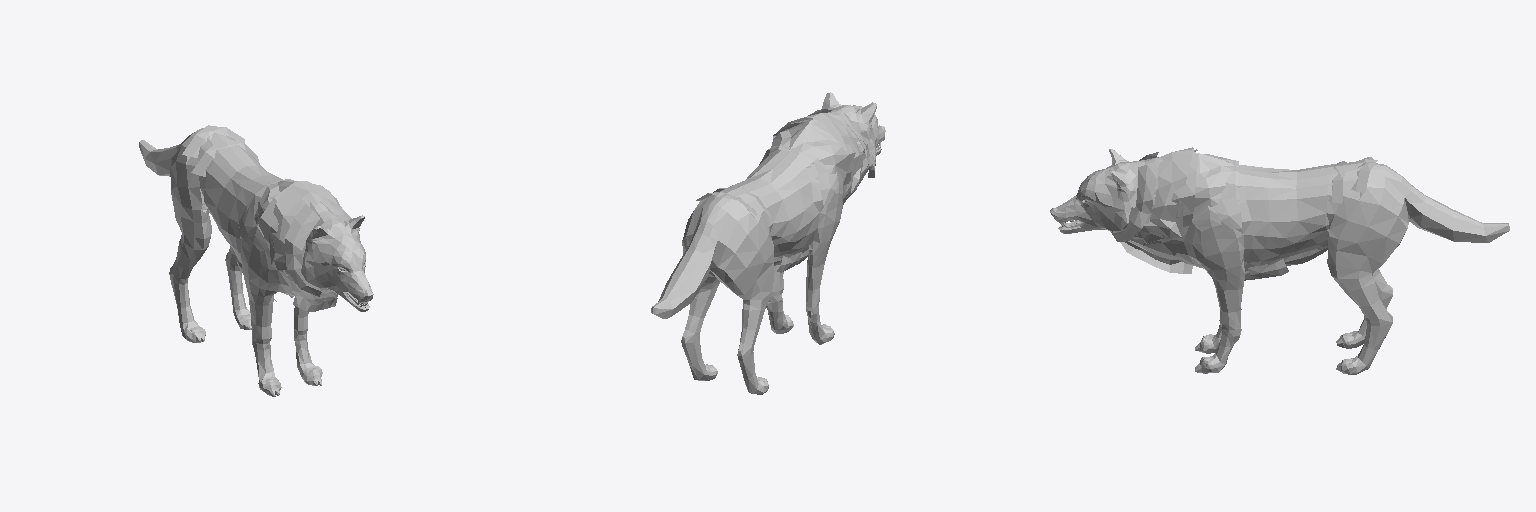
Rendered from Wolf.obj.
The picture shows the model from 3 angles: view 1: azimuth 30°, elevation 25°; view 2: azimuth 150°, elevation 25°; view 3: azimuth 270°, elevation 25°; orthographic projection.
Visible parts, largest first — view 1: Wolf; view 2: Wolf; view 3: Wolf.
Boxes of the visible parts, box(x1,y1,x2,y2) form: Wolf: box(139, 125, 373, 396); Wolf: box(651, 92, 885, 394); Wolf: box(1050, 147, 1509, 374).
Bounding box in the file's own units: 0.3717 × 0.9913 × 1.94.